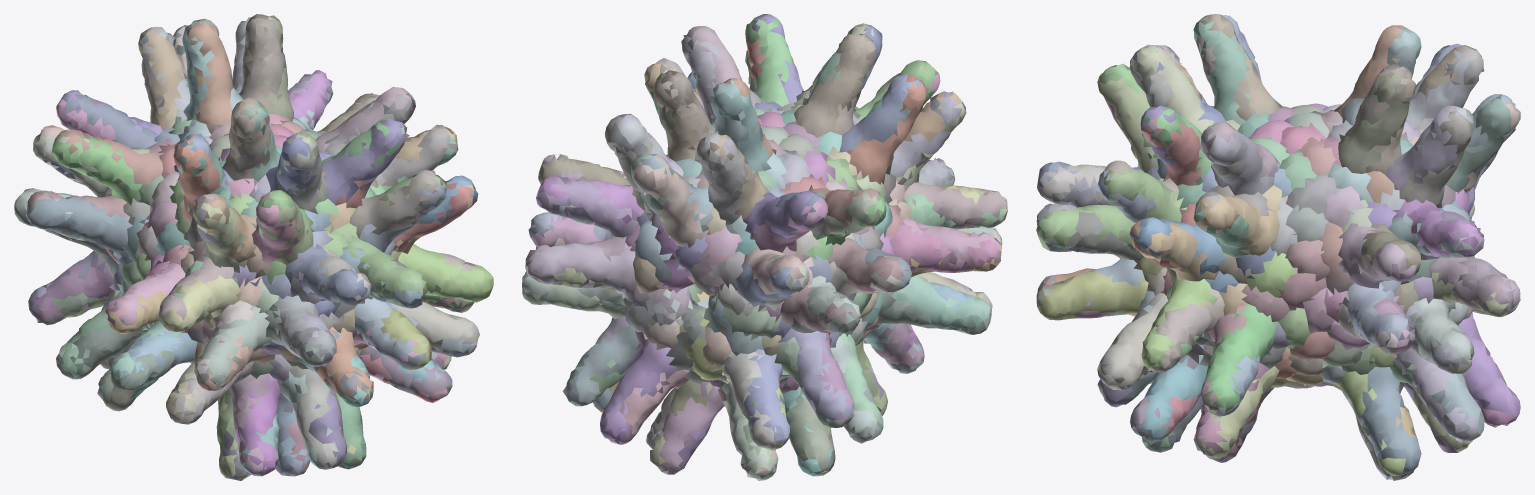
File: bacteriophage_phi29_prohead_80_cleaned_draco.glb
The picture shows the model from 3 angles, left to right: view 1: azimuth 30°, elevation 25°; view 2: azimuth 150°, elevation 25°; view 3: azimuth 270°, elevation 25°; orthographic projection. The views are drawn at different scales.
Parts seen in each view (by area): view 1: 6qvk.cif_9R Gaussian surface; view 2: 6qvk.cif_9R Gaussian surface; view 3: 6qvk.cif_9R Gaussian surface.
Boxes of the visible parts, left/top/right/bottom form: 6qvk.cif_9R Gaussian surface: left=14, top=14, right=493, bottom=480; 6qvk.cif_9R Gaussian surface: left=522, top=14, right=1007, bottom=480; 6qvk.cif_9R Gaussian surface: left=1036, top=14, right=1520, bottom=480.
Bounding box in the file's own units: 777 × 778 × 796.
